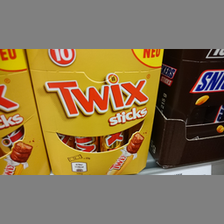chocolate: (33, 71, 159, 176), (163, 49, 223, 168)
